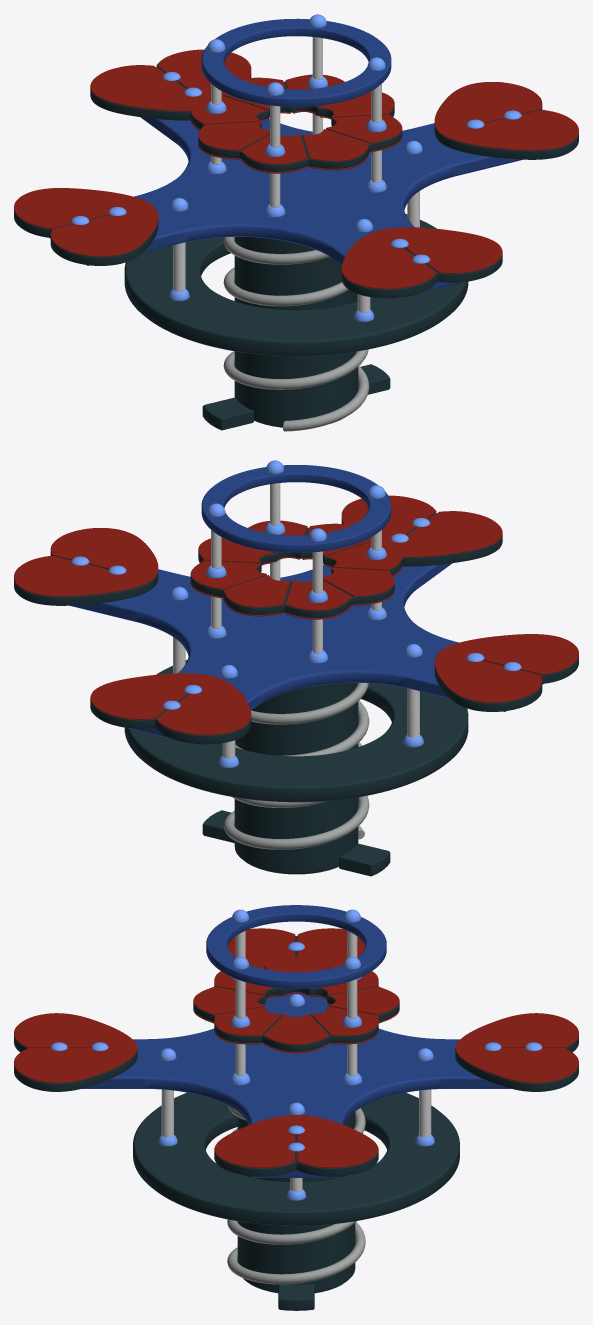
Rendered from Roundabout.fbx.
3 views of the same model, one above another, from view 1: azimuth 30°, elevation 25°; view 2: azimuth 150°, elevation 25°; view 3: azimuth 270°, elevation 25° (orthographic). The views are drawn at different scales.
Visible parts, largest first — view 1: Roundabout_Platform, Roundabout_Base; view 2: Roundabout_Platform, Roundabout_Base; view 3: Roundabout_Platform, Roundabout_Base.
Part boxes in pixels (x1,y1,x2,y2): Roundabout_Platform: [14, 14, 578, 356]; Roundabout_Base: [202, 237, 390, 431]; Roundabout_Platform: [14, 460, 578, 802]; Roundabout_Base: [202, 683, 390, 876]; Roundabout_Platform: [14, 905, 578, 1225]; Roundabout_Base: [227, 1105, 365, 1310].
Size of the model in its own units: 0.8925 by 0.5876 by 0.8925.
